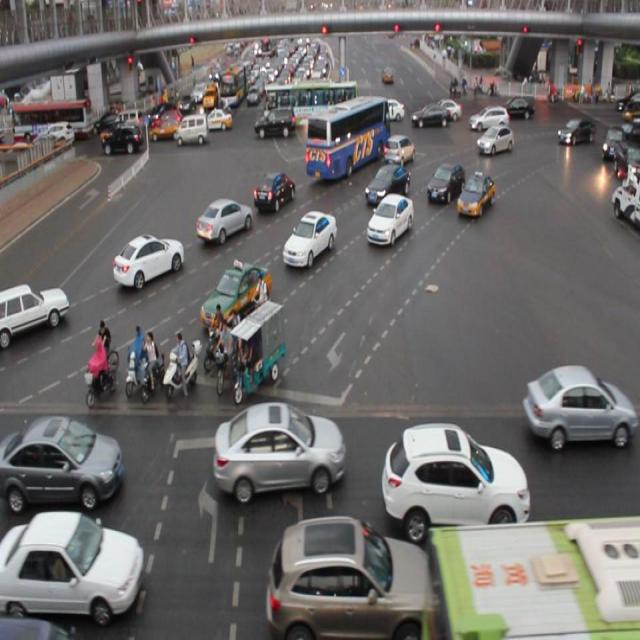car: (268, 513, 431, 640), (381, 418, 530, 528), (1, 509, 145, 615), (215, 401, 346, 496), (1, 414, 124, 511), (523, 363, 640, 449), (199, 263, 273, 328), (112, 230, 185, 288), (1, 280, 68, 343), (282, 212, 337, 266), (195, 196, 253, 243), (366, 194, 414, 246), (455, 170, 494, 220), (252, 169, 294, 210), (363, 163, 410, 198), (425, 162, 464, 204), (475, 124, 513, 156), (384, 133, 414, 164)
van: (425, 511, 640, 640), (308, 95, 390, 180)
